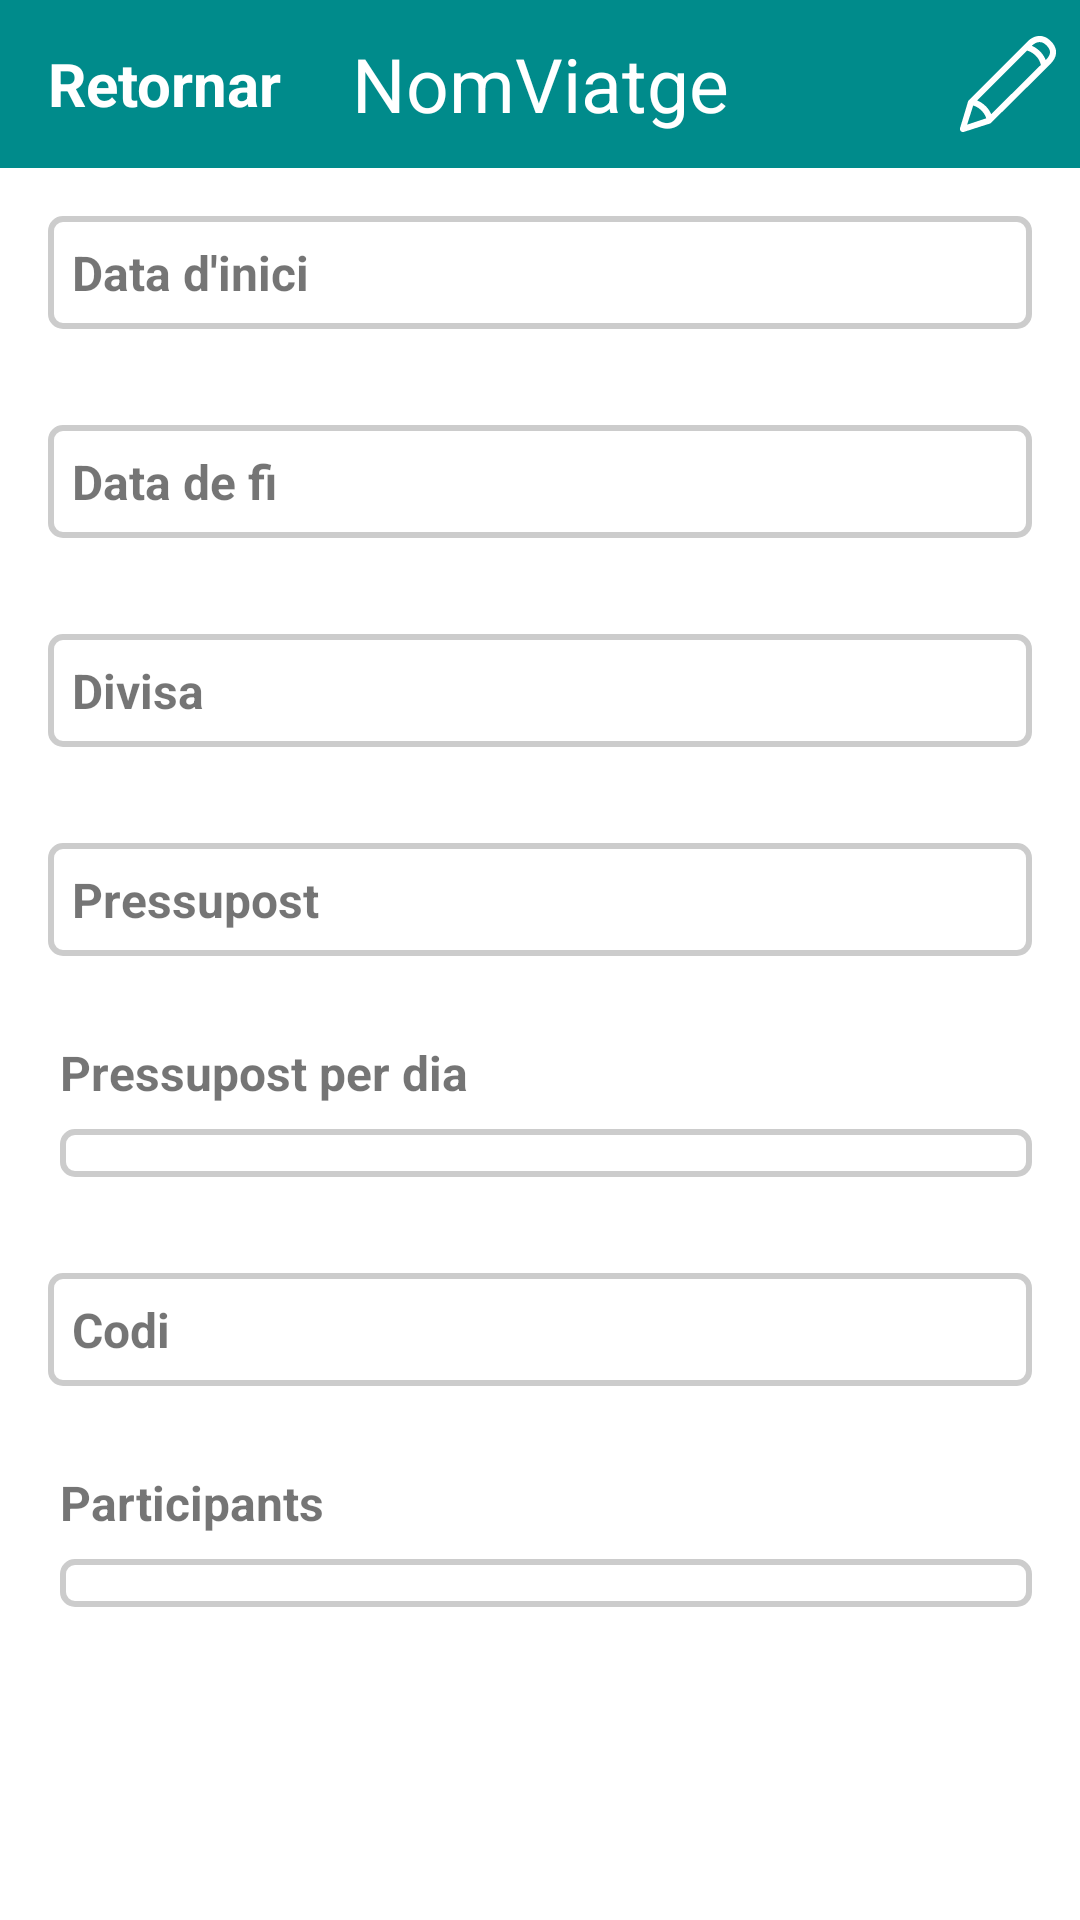

Where icons sit on this 1080 × 1920 app screen, as Rect(x1, y1, x2, y2):
pencil: Rect(960, 36, 1056, 132)
